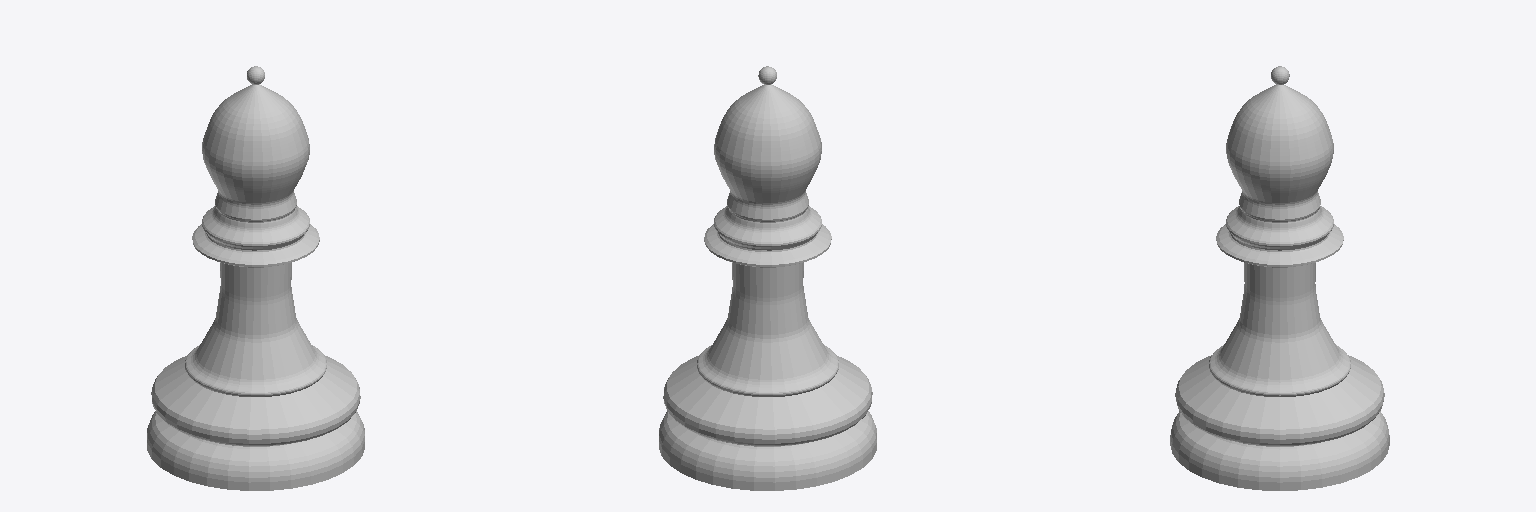
File: bishop.obj
3 views of the same model, side by side, from view 1: azimuth 30°, elevation 25°; view 2: azimuth 150°, elevation 25°; view 3: azimuth 270°, elevation 25° (orthographic).
Parts seen in each view (by area): view 1: Dark_Bishop_2_Sphere.001; view 2: Dark_Bishop_2_Sphere.001; view 3: Dark_Bishop_2_Sphere.001.
Part boxes in pixels (x1,y1,x2,y2): Dark_Bishop_2_Sphere.001: (147,66,364,490); Dark_Bishop_2_Sphere.001: (659,66,876,490); Dark_Bishop_2_Sphere.001: (1170,66,1389,490).
Size of the model in its own units: 1.21 by 2.29 by 1.21.